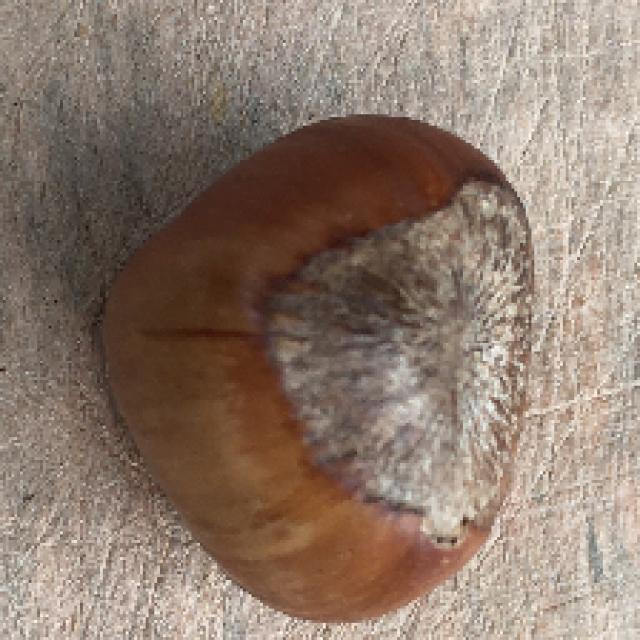qualityHazelnut: (96, 115, 538, 624)
